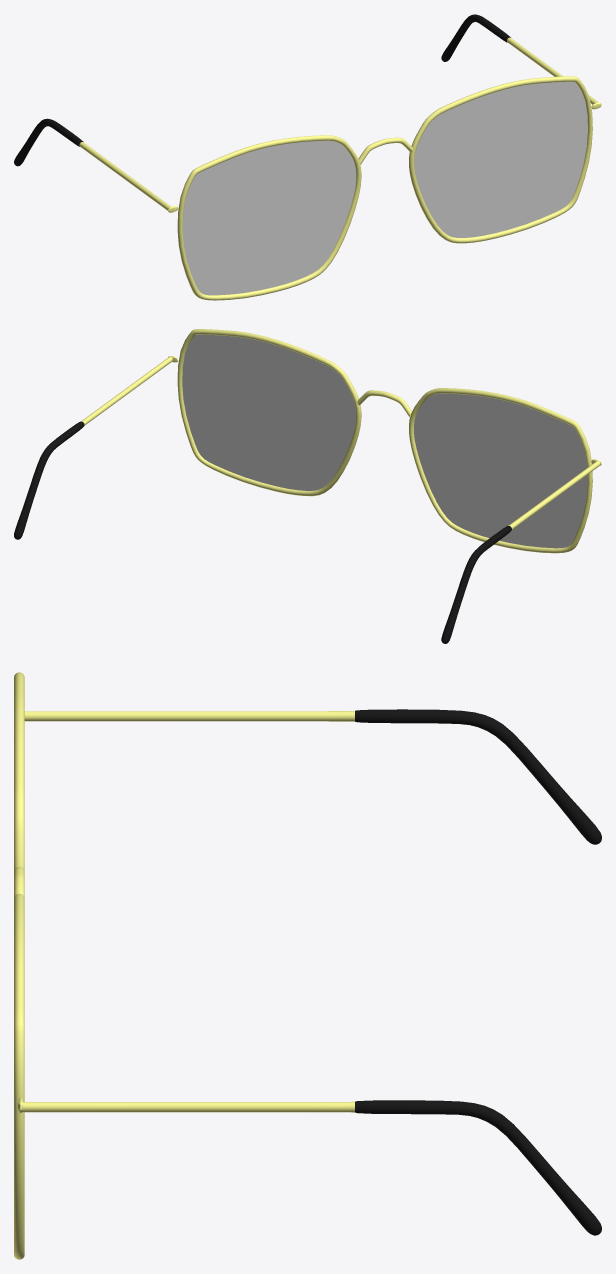
Rendered from transparent_glasses.glb.
The picture shows the model from 3 angles, top to bottom: view 1: azimuth 30°, elevation 25°; view 2: azimuth 150°, elevation 25°; view 3: azimuth 270°, elevation 25°; orthographic projection. The views are drawn at different scales.
Parts seen in each view (by area): view 1: Glases; view 2: Glases; view 3: Glases.
Part boxes in pixels (x1=…): Glases: x1=14, y1=14, x2=601, y2=300; Glases: x1=14, y1=329, x2=601, y2=643; Glases: x1=14, y1=672, x2=601, y2=1259.
Size of the model in its own units: 2.85 by 0.948 by 1.78.
